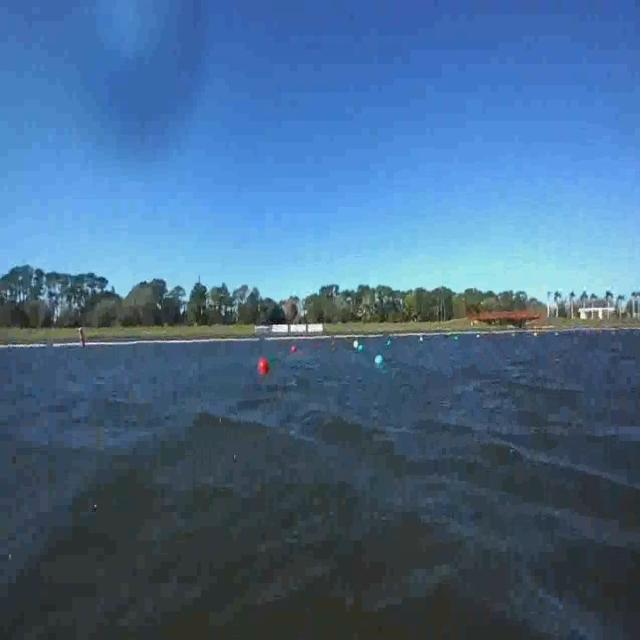green-buoy: (373, 353, 390, 372), (356, 343, 366, 355)
red-buoy: (288, 342, 301, 361), (261, 358, 271, 375)
